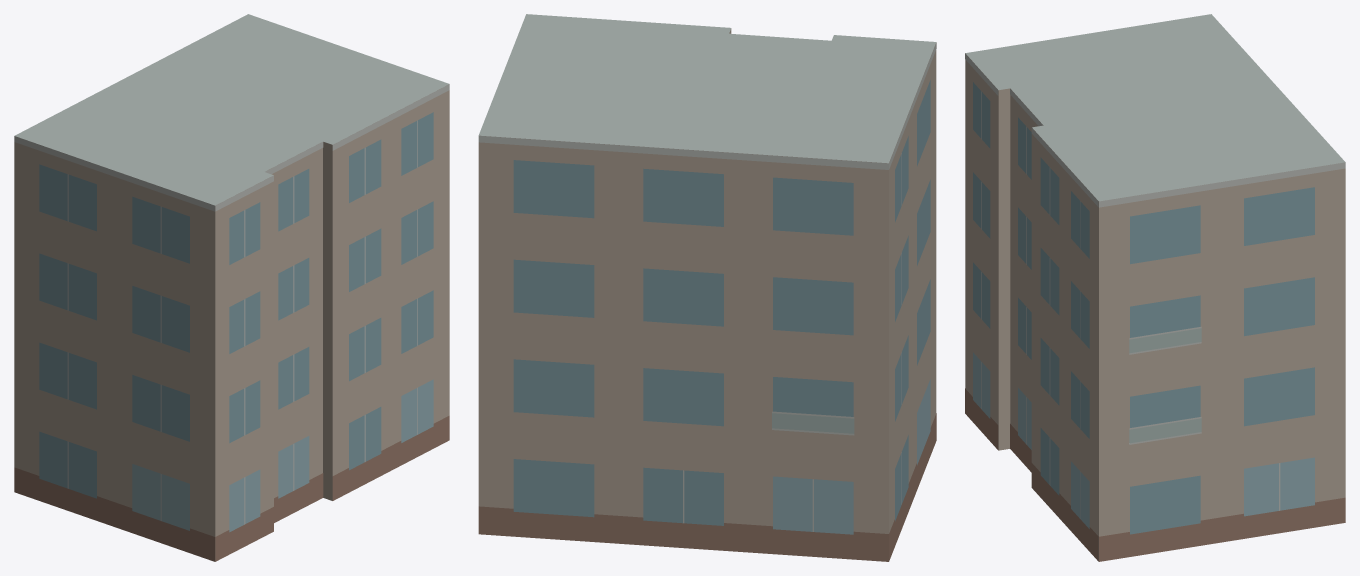
The model's file is survey-upis-32842327.glb.
The picture shows the model from 3 angles, left to right: view 1: azimuth 30°, elevation 25°; view 2: azimuth 150°, elevation 25°; view 3: azimuth 270°, elevation 25°; orthographic projection. The views are drawn at different scales.
Parts seen in each view (by area): view 1: survey-upis-32842327.tmp; view 2: survey-upis-32842327.tmp; view 3: survey-upis-32842327.tmp.
Part boxes in pixels (x1,y1,x2,y2): survey-upis-32842327.tmp: [14, 14, 449, 561]; survey-upis-32842327.tmp: [478, 14, 936, 561]; survey-upis-32842327.tmp: [965, 14, 1345, 561].
Bounding box in the file's own units: 15.96 × 14.3 × 13.69.
